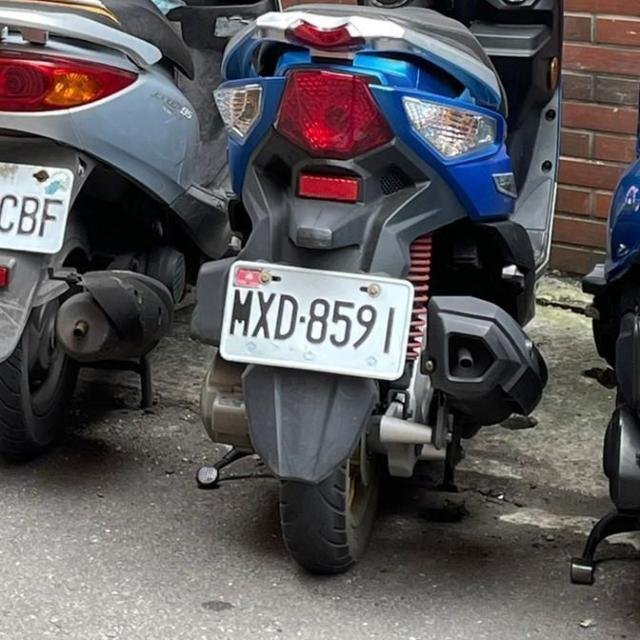W: (209, 248, 423, 388), (0, 139, 83, 262)
